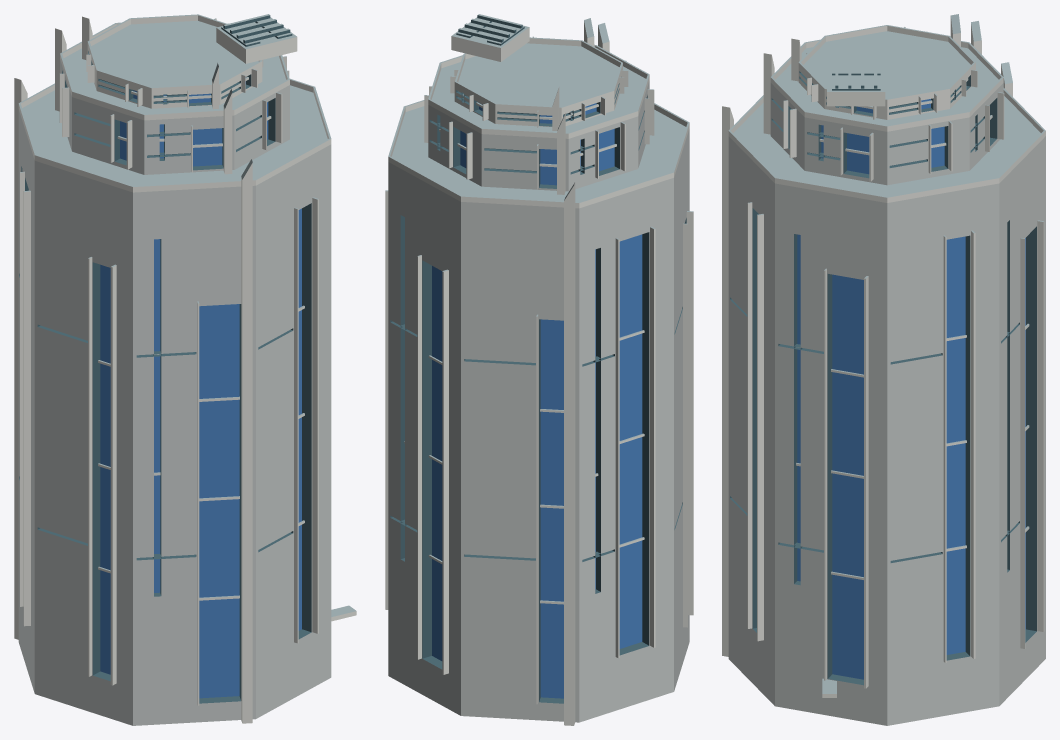
The model's file is 04_Glasoktogon.obj.
The picture shows the model from 3 angles, left to right: view 1: azimuth 30°, elevation 25°; view 2: azimuth 150°, elevation 25°; view 3: azimuth 270°, elevation 25°; orthographic projection. The views are drawn at different scales.
Size of the model in its own units: 0.4794 by 1 by 0.475.
